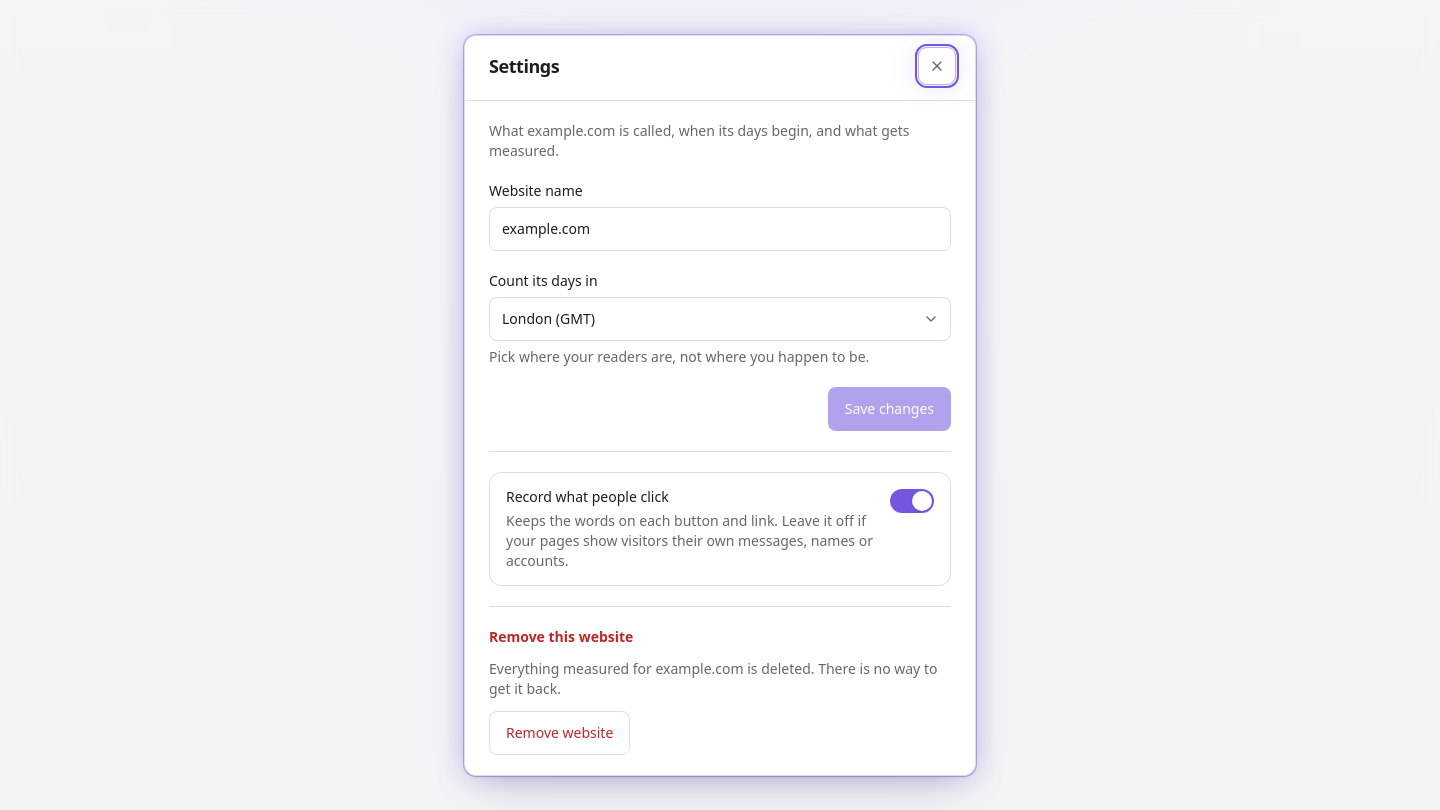
Test: what a website is called and when its days begin › says the change went through
The image size is (1440, 810).
Replace the text in the field labelled "Website name" with "Reader Weekly" at coordinates (720, 228), box [489,206,951,250]
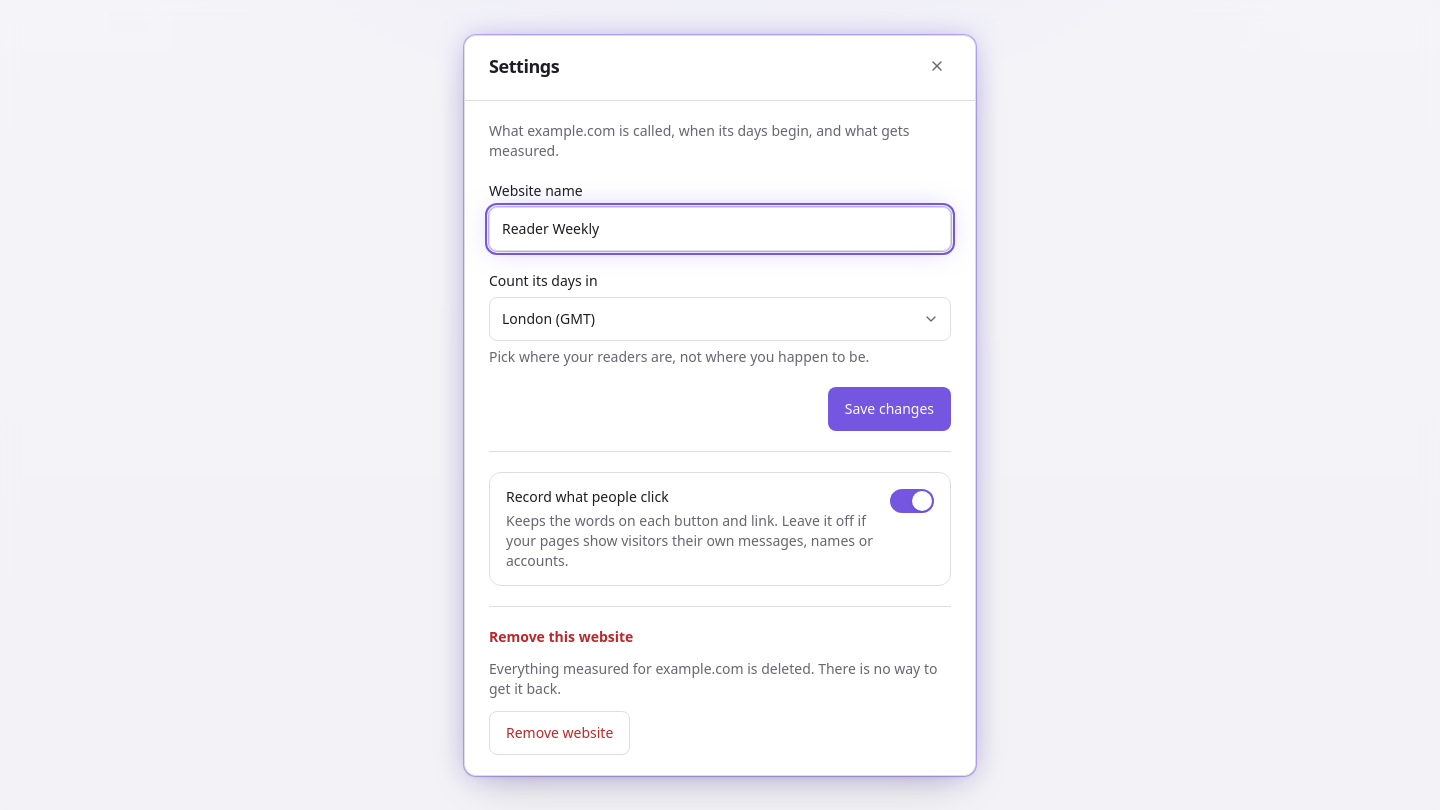
Click the button "Save changes" at coordinates (889, 408), box [828,386,951,430]
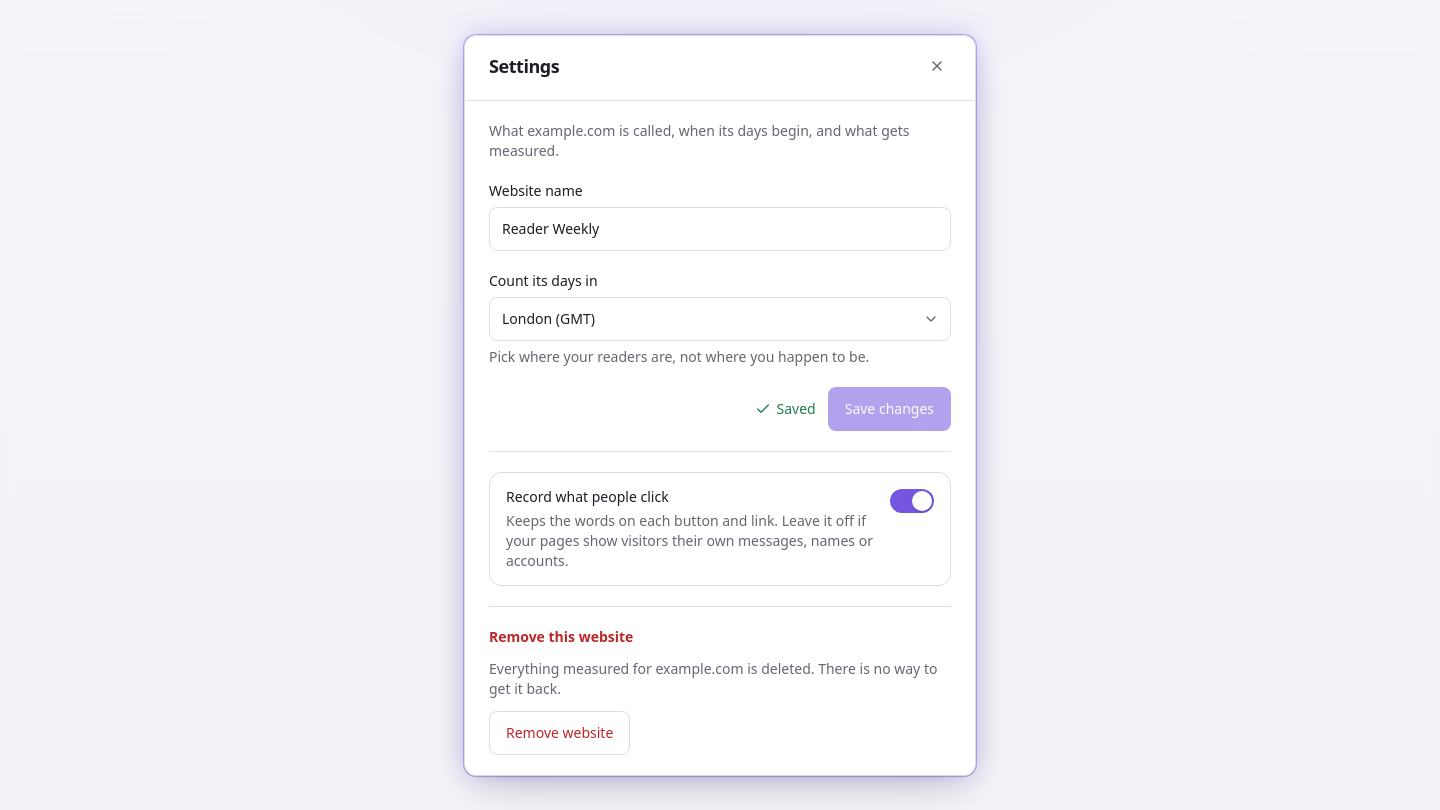
Check: the message reads "Saved", box [776,398,816,418]
